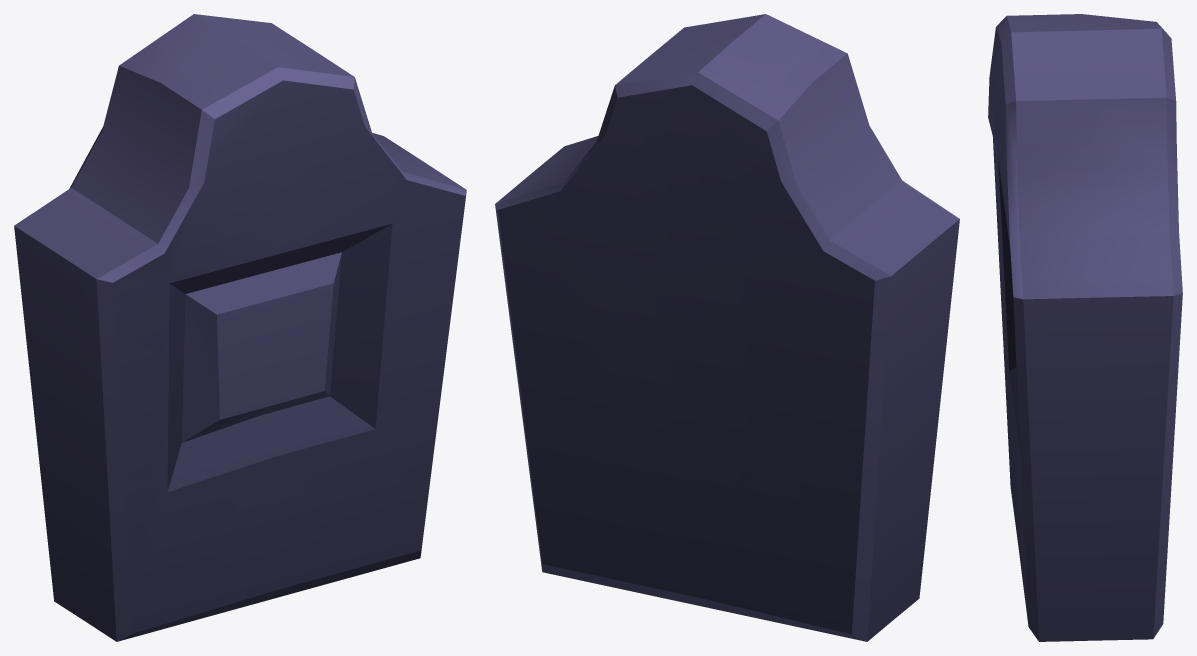
The model's file is prop_tomb_4.glb.
3 views of the same model, side by side, from view 1: azimuth 30°, elevation 25°; view 2: azimuth 150°, elevation 25°; view 3: azimuth 270°, elevation 25° (orthographic).
Parts seen in each view (by area): view 1: prop_tomb_4; view 2: prop_tomb_4; view 3: prop_tomb_4.
Boxes of the visible parts, left/top/right/bottom form: prop_tomb_4: left=14, top=14, right=466, bottom=641; prop_tomb_4: left=495, top=14, right=959, bottom=641; prop_tomb_4: left=988, top=14, right=1182, bottom=641.
Bounding box in the file's own units: 2.05 × 2.72 × 0.8994.
Materials: 1 (1 with a texture image).
